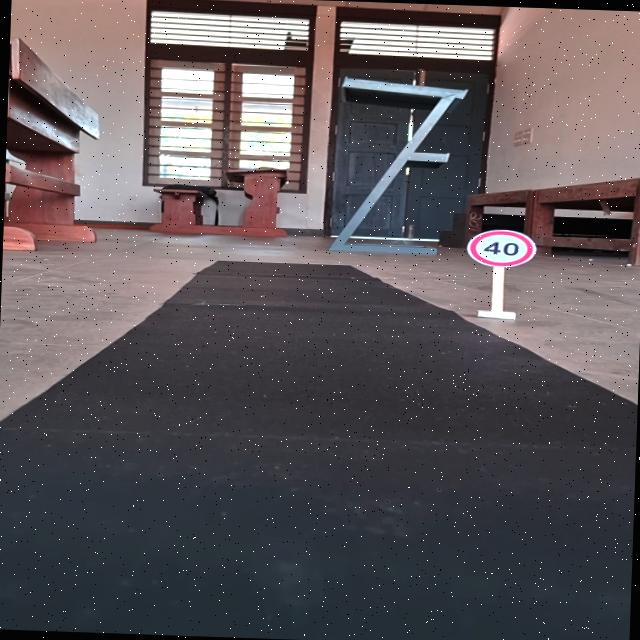Speed40: (456, 223, 542, 270)
